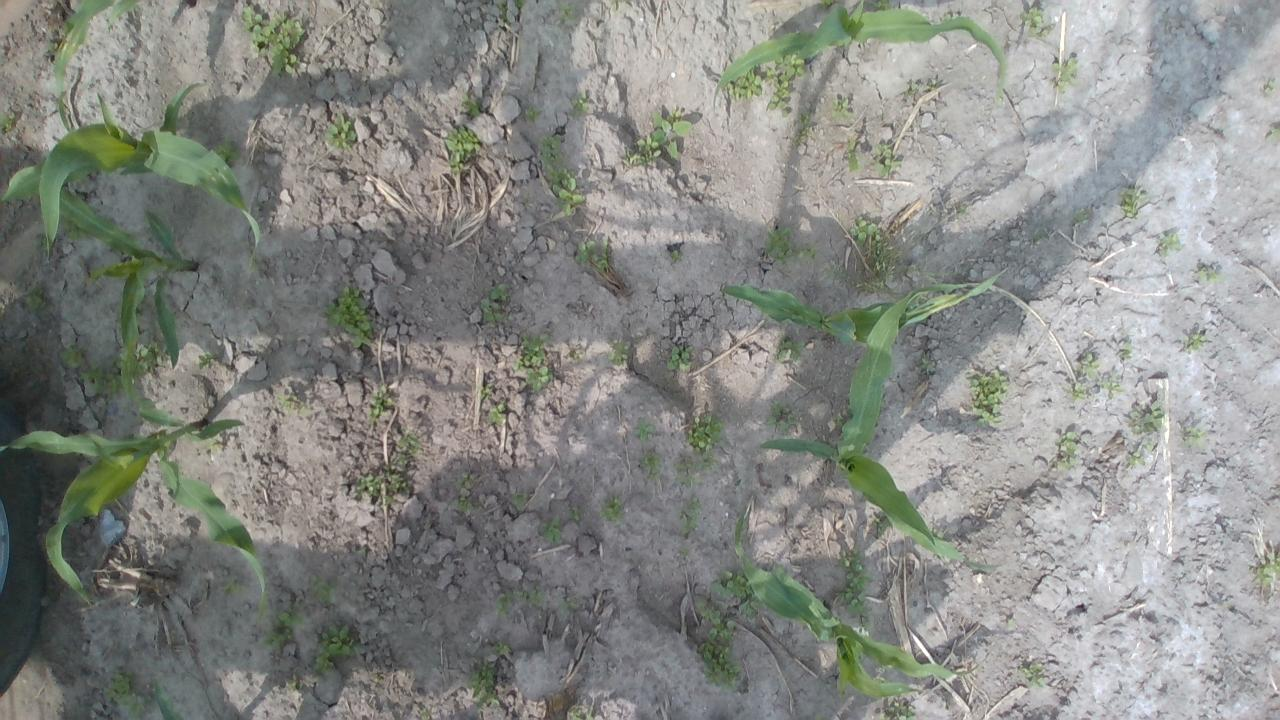Maize: (0, 356, 266, 628), (760, 285, 994, 577), (0, 80, 261, 270), (732, 511, 979, 699), (55, 184, 198, 409), (712, 0, 1006, 107), (49, 0, 198, 133), (721, 280, 993, 350), (152, 680, 185, 720)
Weeds: (242, 5, 306, 79), (620, 110, 694, 171), (320, 284, 372, 350), (766, 52, 809, 118), (834, 552, 872, 620), (543, 161, 586, 216), (966, 369, 1006, 428), (686, 415, 725, 471), (697, 640, 741, 689), (693, 594, 737, 642), (314, 624, 358, 672), (102, 672, 146, 720), (443, 124, 482, 176), (80, 364, 126, 408), (724, 64, 762, 103), (324, 112, 358, 154), (869, 236, 901, 280), (763, 227, 799, 264), (513, 335, 551, 370), (1054, 430, 1084, 474), (710, 568, 751, 600), (471, 662, 498, 708), (1129, 399, 1165, 433), (766, 399, 802, 432), (1020, 6, 1054, 40), (481, 284, 511, 322), (134, 343, 170, 374), (871, 142, 901, 178), (576, 239, 608, 271), (678, 496, 702, 538), (849, 216, 880, 248), (396, 430, 424, 464), (1052, 58, 1078, 94), (1119, 186, 1148, 218), (212, 136, 241, 167), (672, 463, 705, 490), (368, 386, 393, 420), (383, 471, 407, 506), (274, 601, 306, 626), (666, 345, 694, 373), (881, 699, 918, 720), (1255, 556, 1280, 587), (275, 393, 306, 418), (598, 497, 626, 524), (24, 285, 48, 316), (259, 628, 294, 649), (354, 473, 382, 499), (638, 450, 662, 480), (1020, 664, 1047, 690), (1078, 352, 1101, 382), (792, 113, 812, 147), (856, 279, 898, 295), (776, 340, 806, 362), (63, 220, 93, 241), (1158, 232, 1182, 258), (846, 138, 864, 172), (528, 368, 554, 391), (569, 94, 592, 120), (542, 516, 562, 545), (314, 580, 338, 604), (59, 344, 84, 367), (540, 136, 562, 162), (903, 81, 941, 96), (1182, 426, 1205, 450), (514, 591, 544, 609), (608, 342, 630, 366), (559, 0, 579, 26), (739, 598, 764, 618), (462, 93, 482, 118), (636, 419, 658, 441), (488, 402, 509, 425), (198, 350, 220, 370), (222, 576, 246, 594), (1184, 334, 1207, 352), (1198, 262, 1218, 282), (496, 593, 512, 618), (1102, 380, 1124, 398), (831, 97, 849, 119), (454, 473, 477, 489), (906, 294, 928, 310), (822, 264, 844, 280), (451, 496, 471, 513), (496, 0, 509, 26), (0, 110, 14, 134), (570, 708, 597, 720), (511, 492, 527, 512), (524, 106, 544, 122), (1071, 382, 1087, 400), (492, 642, 512, 656), (1118, 340, 1131, 360), (800, 245, 817, 260), (479, 384, 494, 401), (1128, 452, 1146, 466), (920, 355, 934, 373), (1264, 78, 1278, 96), (1074, 209, 1090, 224), (928, 526, 944, 540), (39, 237, 52, 254), (870, 0, 890, 11), (1268, 126, 1280, 144), (46, 40, 59, 56), (873, 518, 885, 535), (670, 250, 684, 264), (88, 272, 100, 287), (569, 508, 581, 521), (1144, 442, 1157, 453), (1032, 231, 1045, 241), (818, 0, 832, 9), (942, 14, 956, 22), (514, 0, 528, 8), (958, 206, 968, 217), (680, 546, 690, 556), (286, 680, 298, 688), (420, 709, 428, 720), (558, 602, 570, 608)
